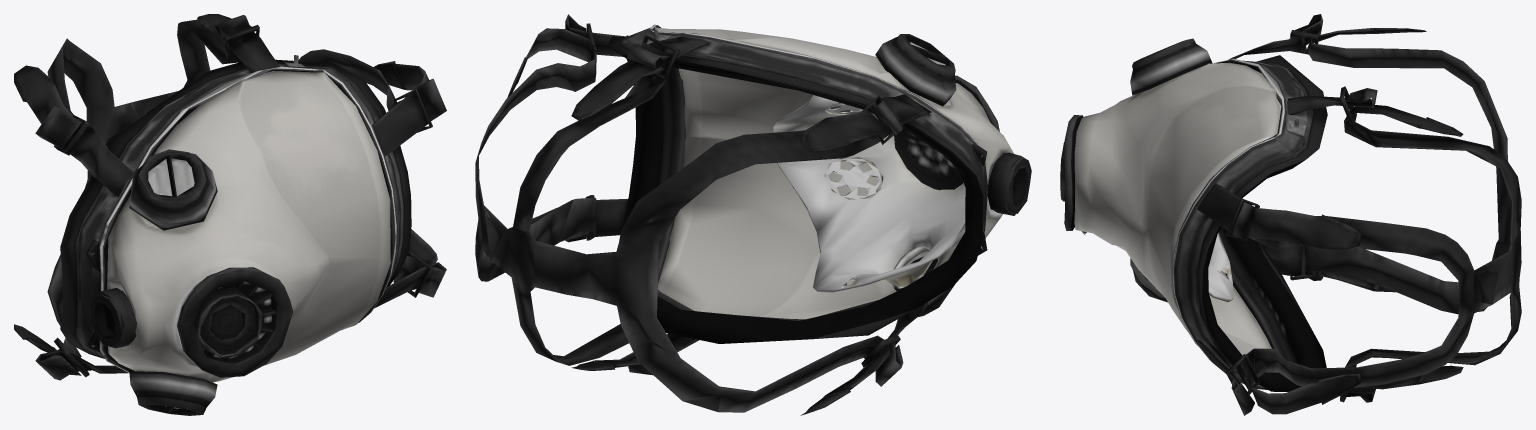
File: M_ChemicalMask.fbx
3 renders of one model, left to right at view 1: azimuth 30°, elevation 25°; view 2: azimuth 150°, elevation 25°; view 3: azimuth 270°, elevation 25°, orthographic. The views are drawn at different scales.
Parts seen in each view (by area): view 1: clearFaceMask.001; view 2: clearFaceMask.001; view 3: clearFaceMask.001.
Part boxes in pixels (<box>): clearFaceMask.001: <box>14,14,446,415</box>; clearFaceMask.001: <box>475,14,1031,415</box>; clearFaceMask.001: <box>1060,14,1521,415</box>.
Bounding box in the file's own units: 0.183 × 0.1363 × 0.1862.
